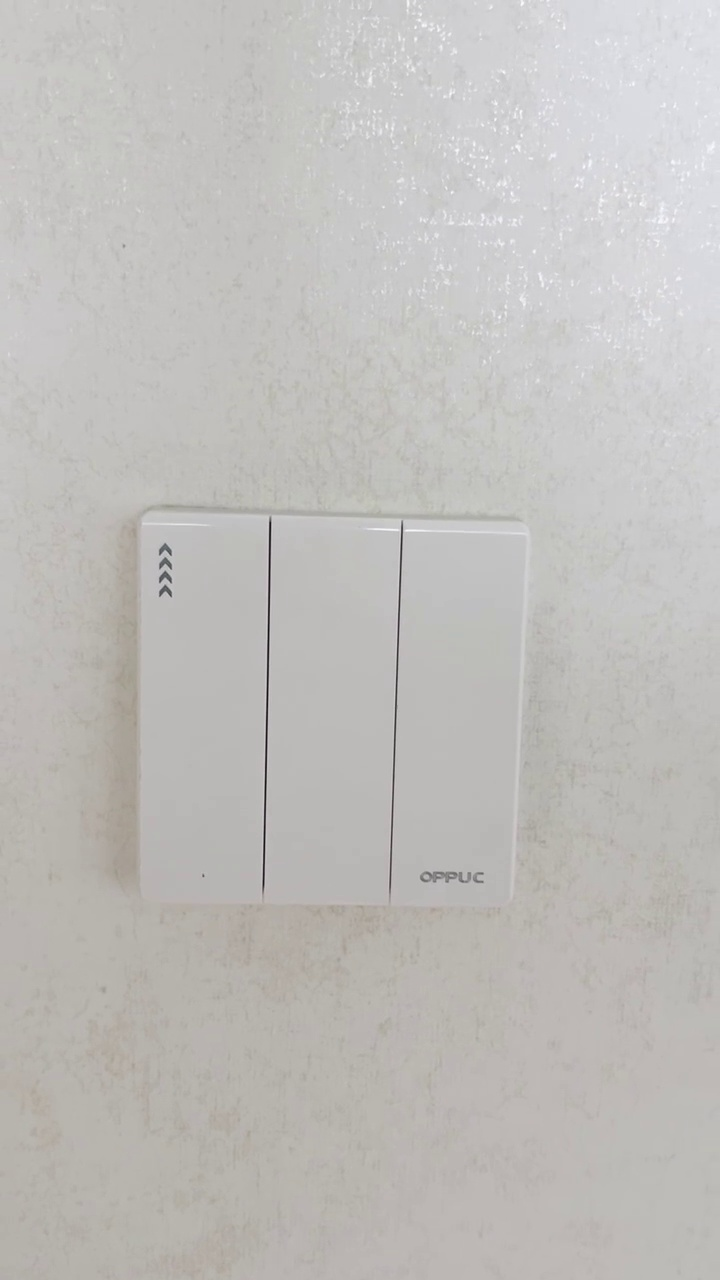button1: (144, 520, 267, 900), (272, 523, 390, 900), (400, 528, 516, 906)
